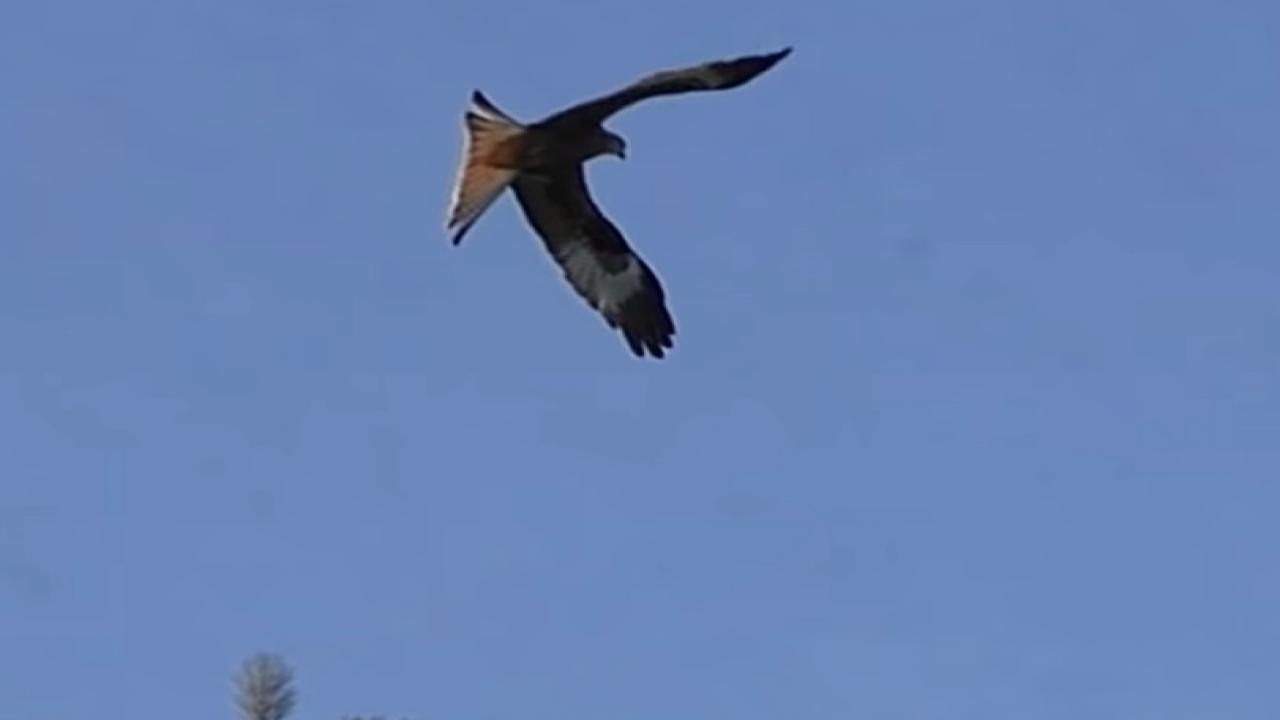Bird: (435, 37, 805, 369)
